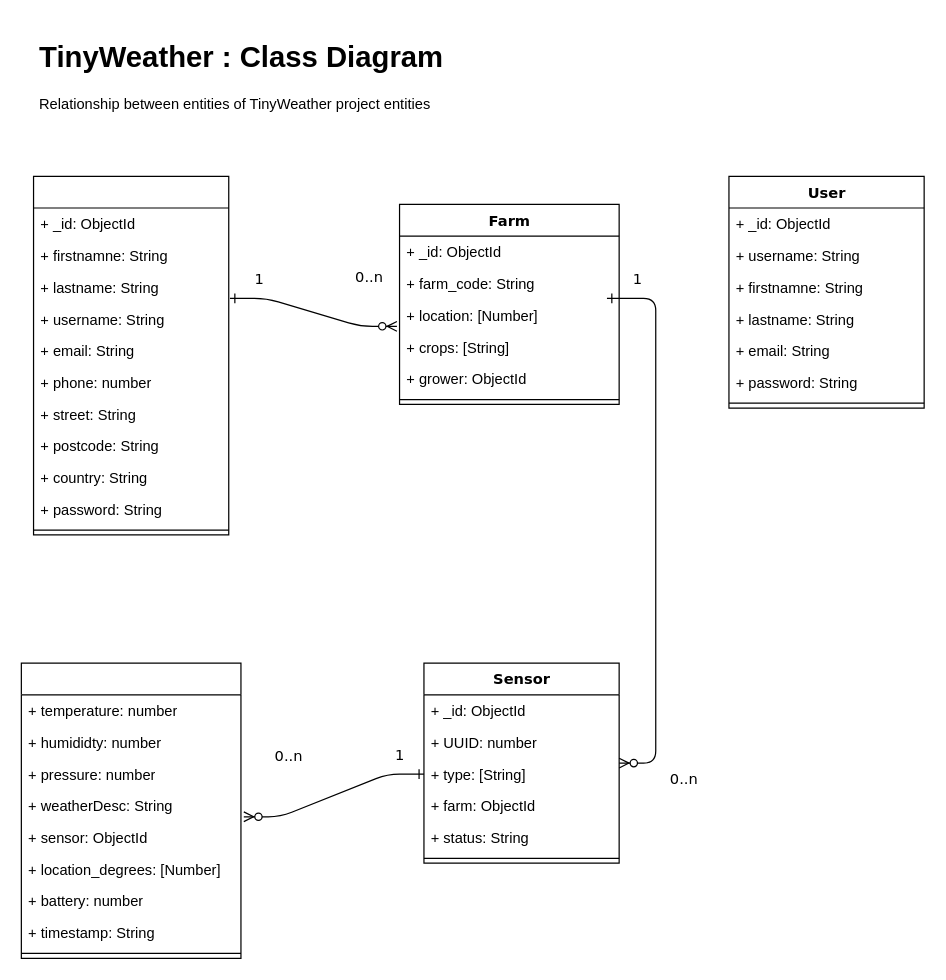
This 946x980 diagram has some shape labels left out. Each missing label, with the box of its shape:
Dataset: (20, 662, 241, 958)
Grower: (32, 175, 229, 535)
